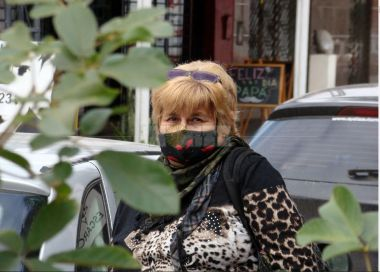barbijo: (154, 119, 225, 164)
